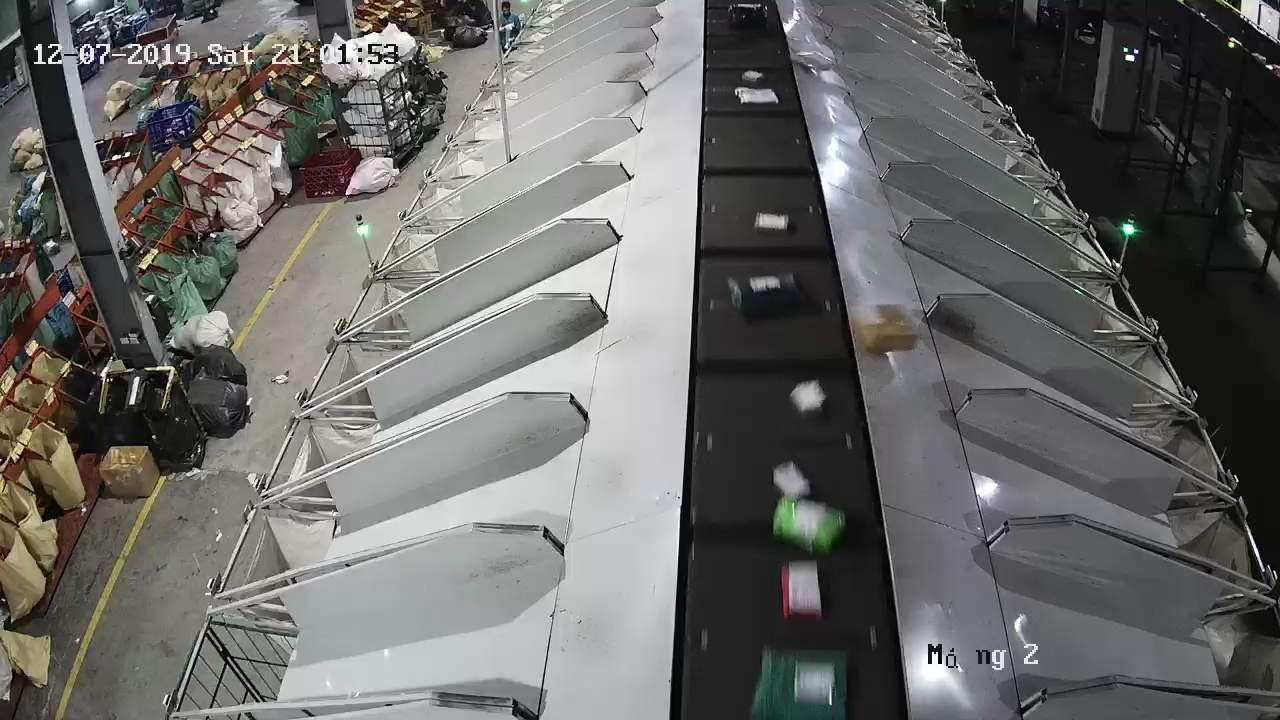parcel: (847, 303, 919, 354), (788, 378, 827, 418)
